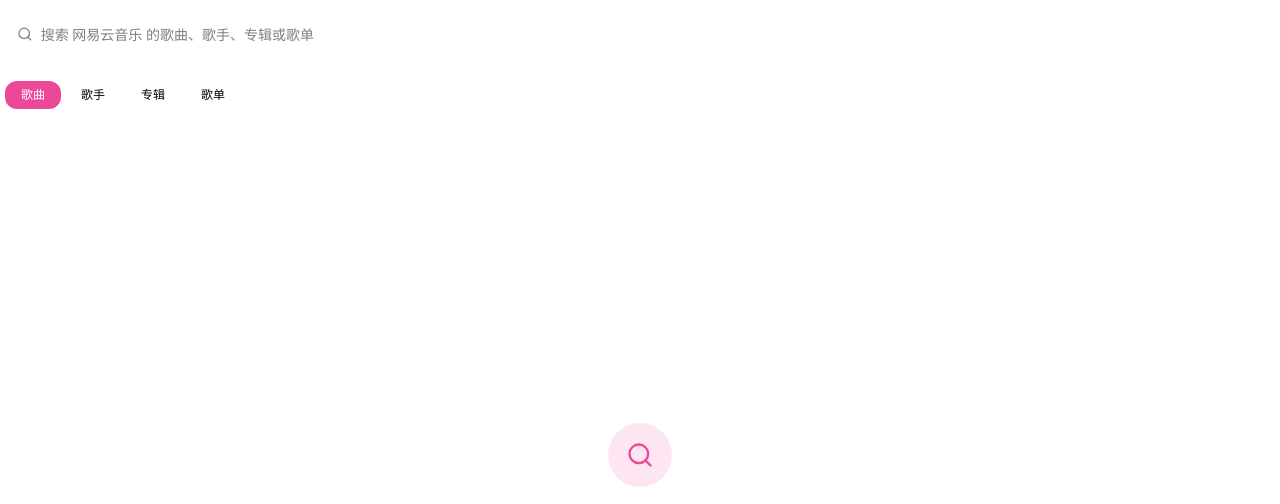
Test: 传统模式 TraditionalView › 独立搜索组件：输入关键词触发搜索并渲染歌曲结果
Step 1. Type "周杰伦" into the field with placeholder "搜索 网易云音乐 的歌曲、歌手、专辑或歌单" → (652, 34), box [41,13,1263,55]
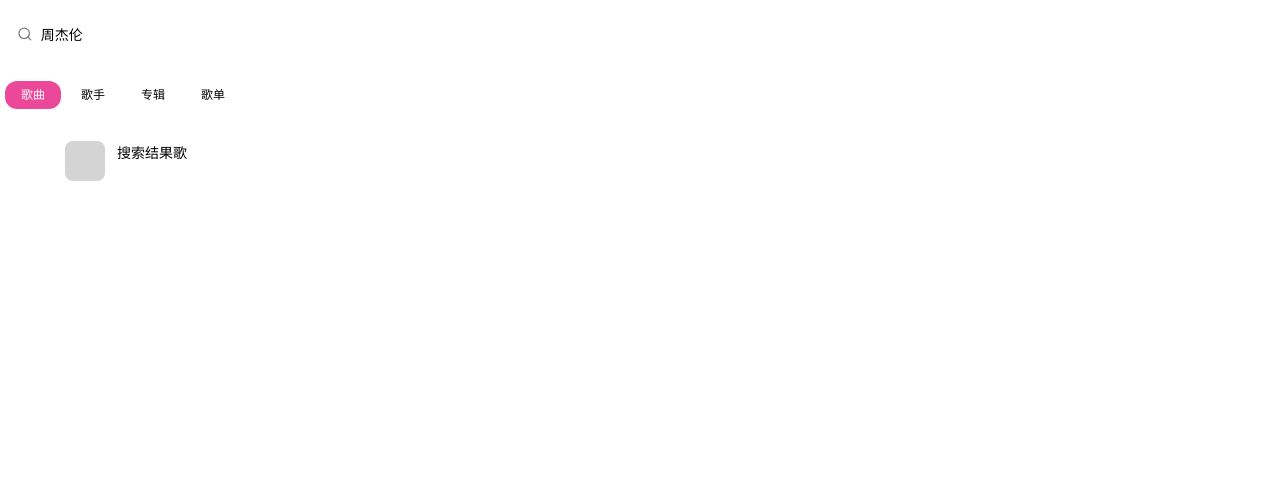
Expected: the text "搜索结果歌" is shown, [117,143,187,163]
